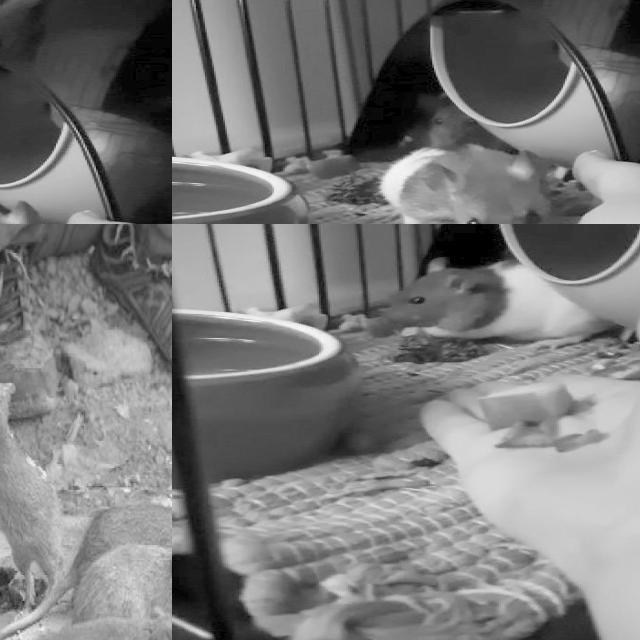rat: (384, 252, 610, 352), (0, 331, 71, 616), (374, 142, 554, 224), (58, 485, 172, 613), (60, 527, 172, 640), (16, 598, 172, 640), (416, 94, 489, 148)
